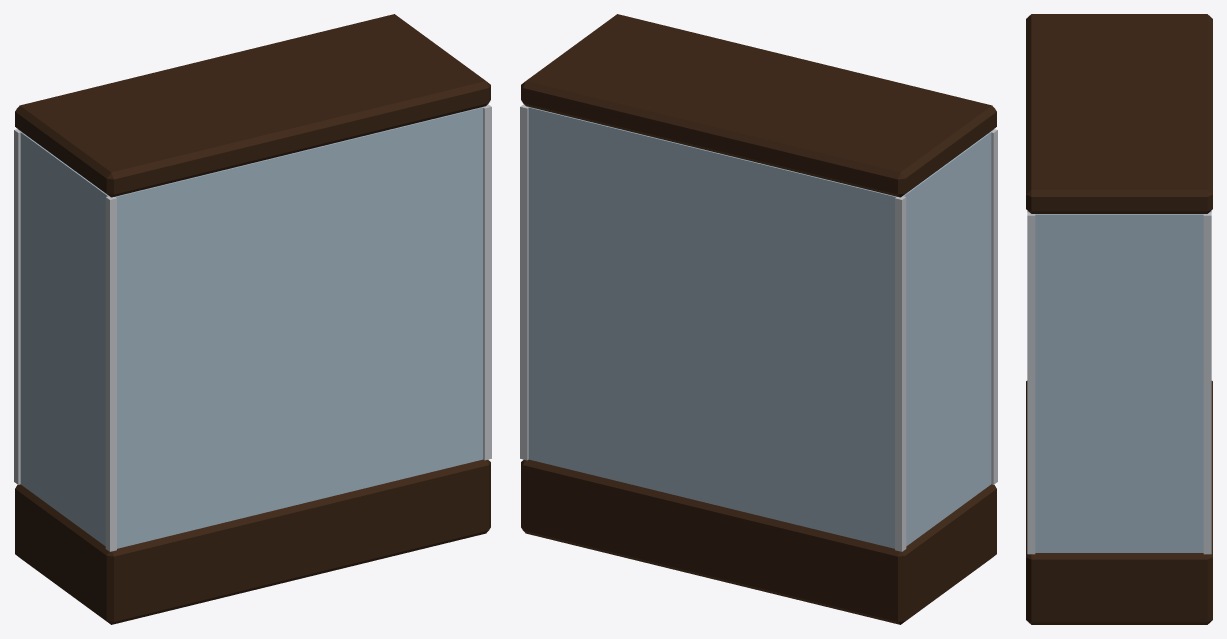
File: display_cabinet.glb
3 renders of one model, left to right at view 1: azimuth 30°, elevation 25°; view 2: azimuth 150°, elevation 25°; view 3: azimuth 270°, elevation 25°, orthographic. The views are drawn at different scales.
Parts seen in each view (by area): view 1: display_cabinet; view 2: display_cabinet; view 3: display_cabinet.
Part boxes in pixels (x1,y1,x2,y2): display_cabinet: (14,14,491,624); display_cabinet: (520,14,997,624); display_cabinet: (1026,14,1212,624).
Bounding box in the file's own units: 1.6 × 1.8 × 0.7.
